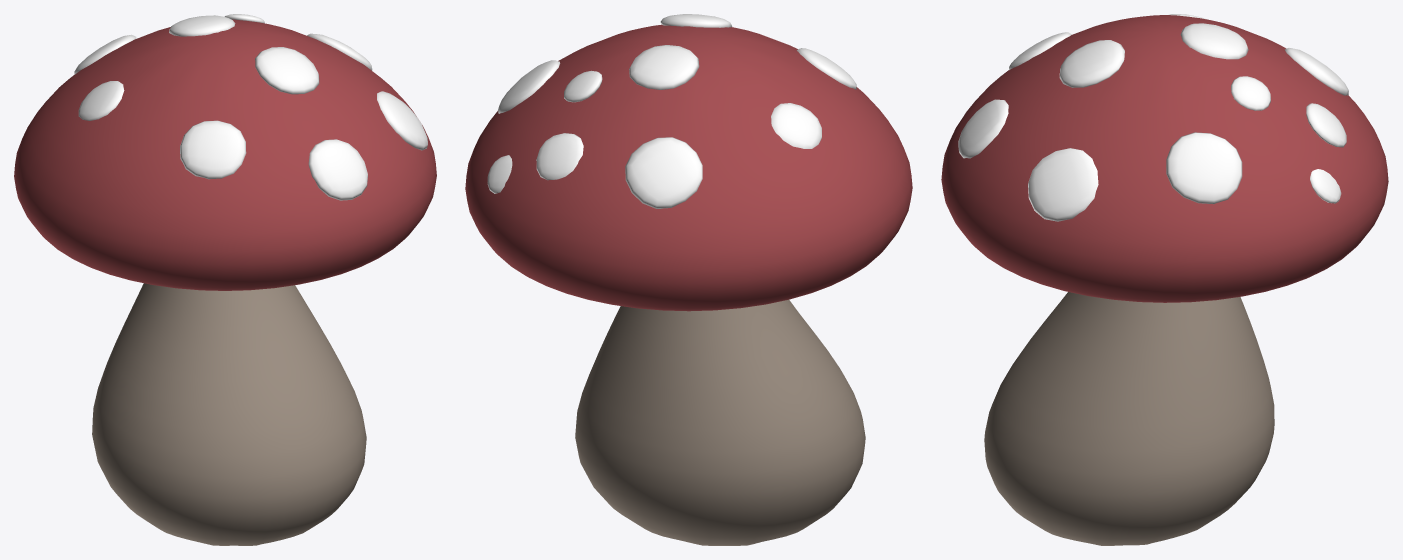
Rendered from petit_champi.fbx.
3 renders of one model, left to right at view 1: azimuth 30°, elevation 25°; view 2: azimuth 150°, elevation 25°; view 3: azimuth 270°, elevation 25°, orthographic. The views are drawn at different scales.
Parts seen in each view (by area): view 1: Circle.003, Circle.002, Cube.013; view 2: Circle.003, Circle.002, Cube.013; view 3: Circle.003, Circle.002, Cube.013.
Boxes of the visible parts, x1,y1,x2,y2 form: Circle.003: [14, 19, 436, 290]; Circle.002: [92, 283, 366, 545]; Cube.013: [74, 14, 427, 200]; Circle.003: [465, 24, 912, 311]; Circle.002: [575, 299, 865, 545]; Cube.013: [487, 14, 856, 208]; Circle.003: [941, 15, 1388, 302]; Circle.002: [984, 292, 1274, 545]; Cube.013: [958, 14, 1348, 221].
Bounding box in the file's own units: 242 × 298 × 242.
